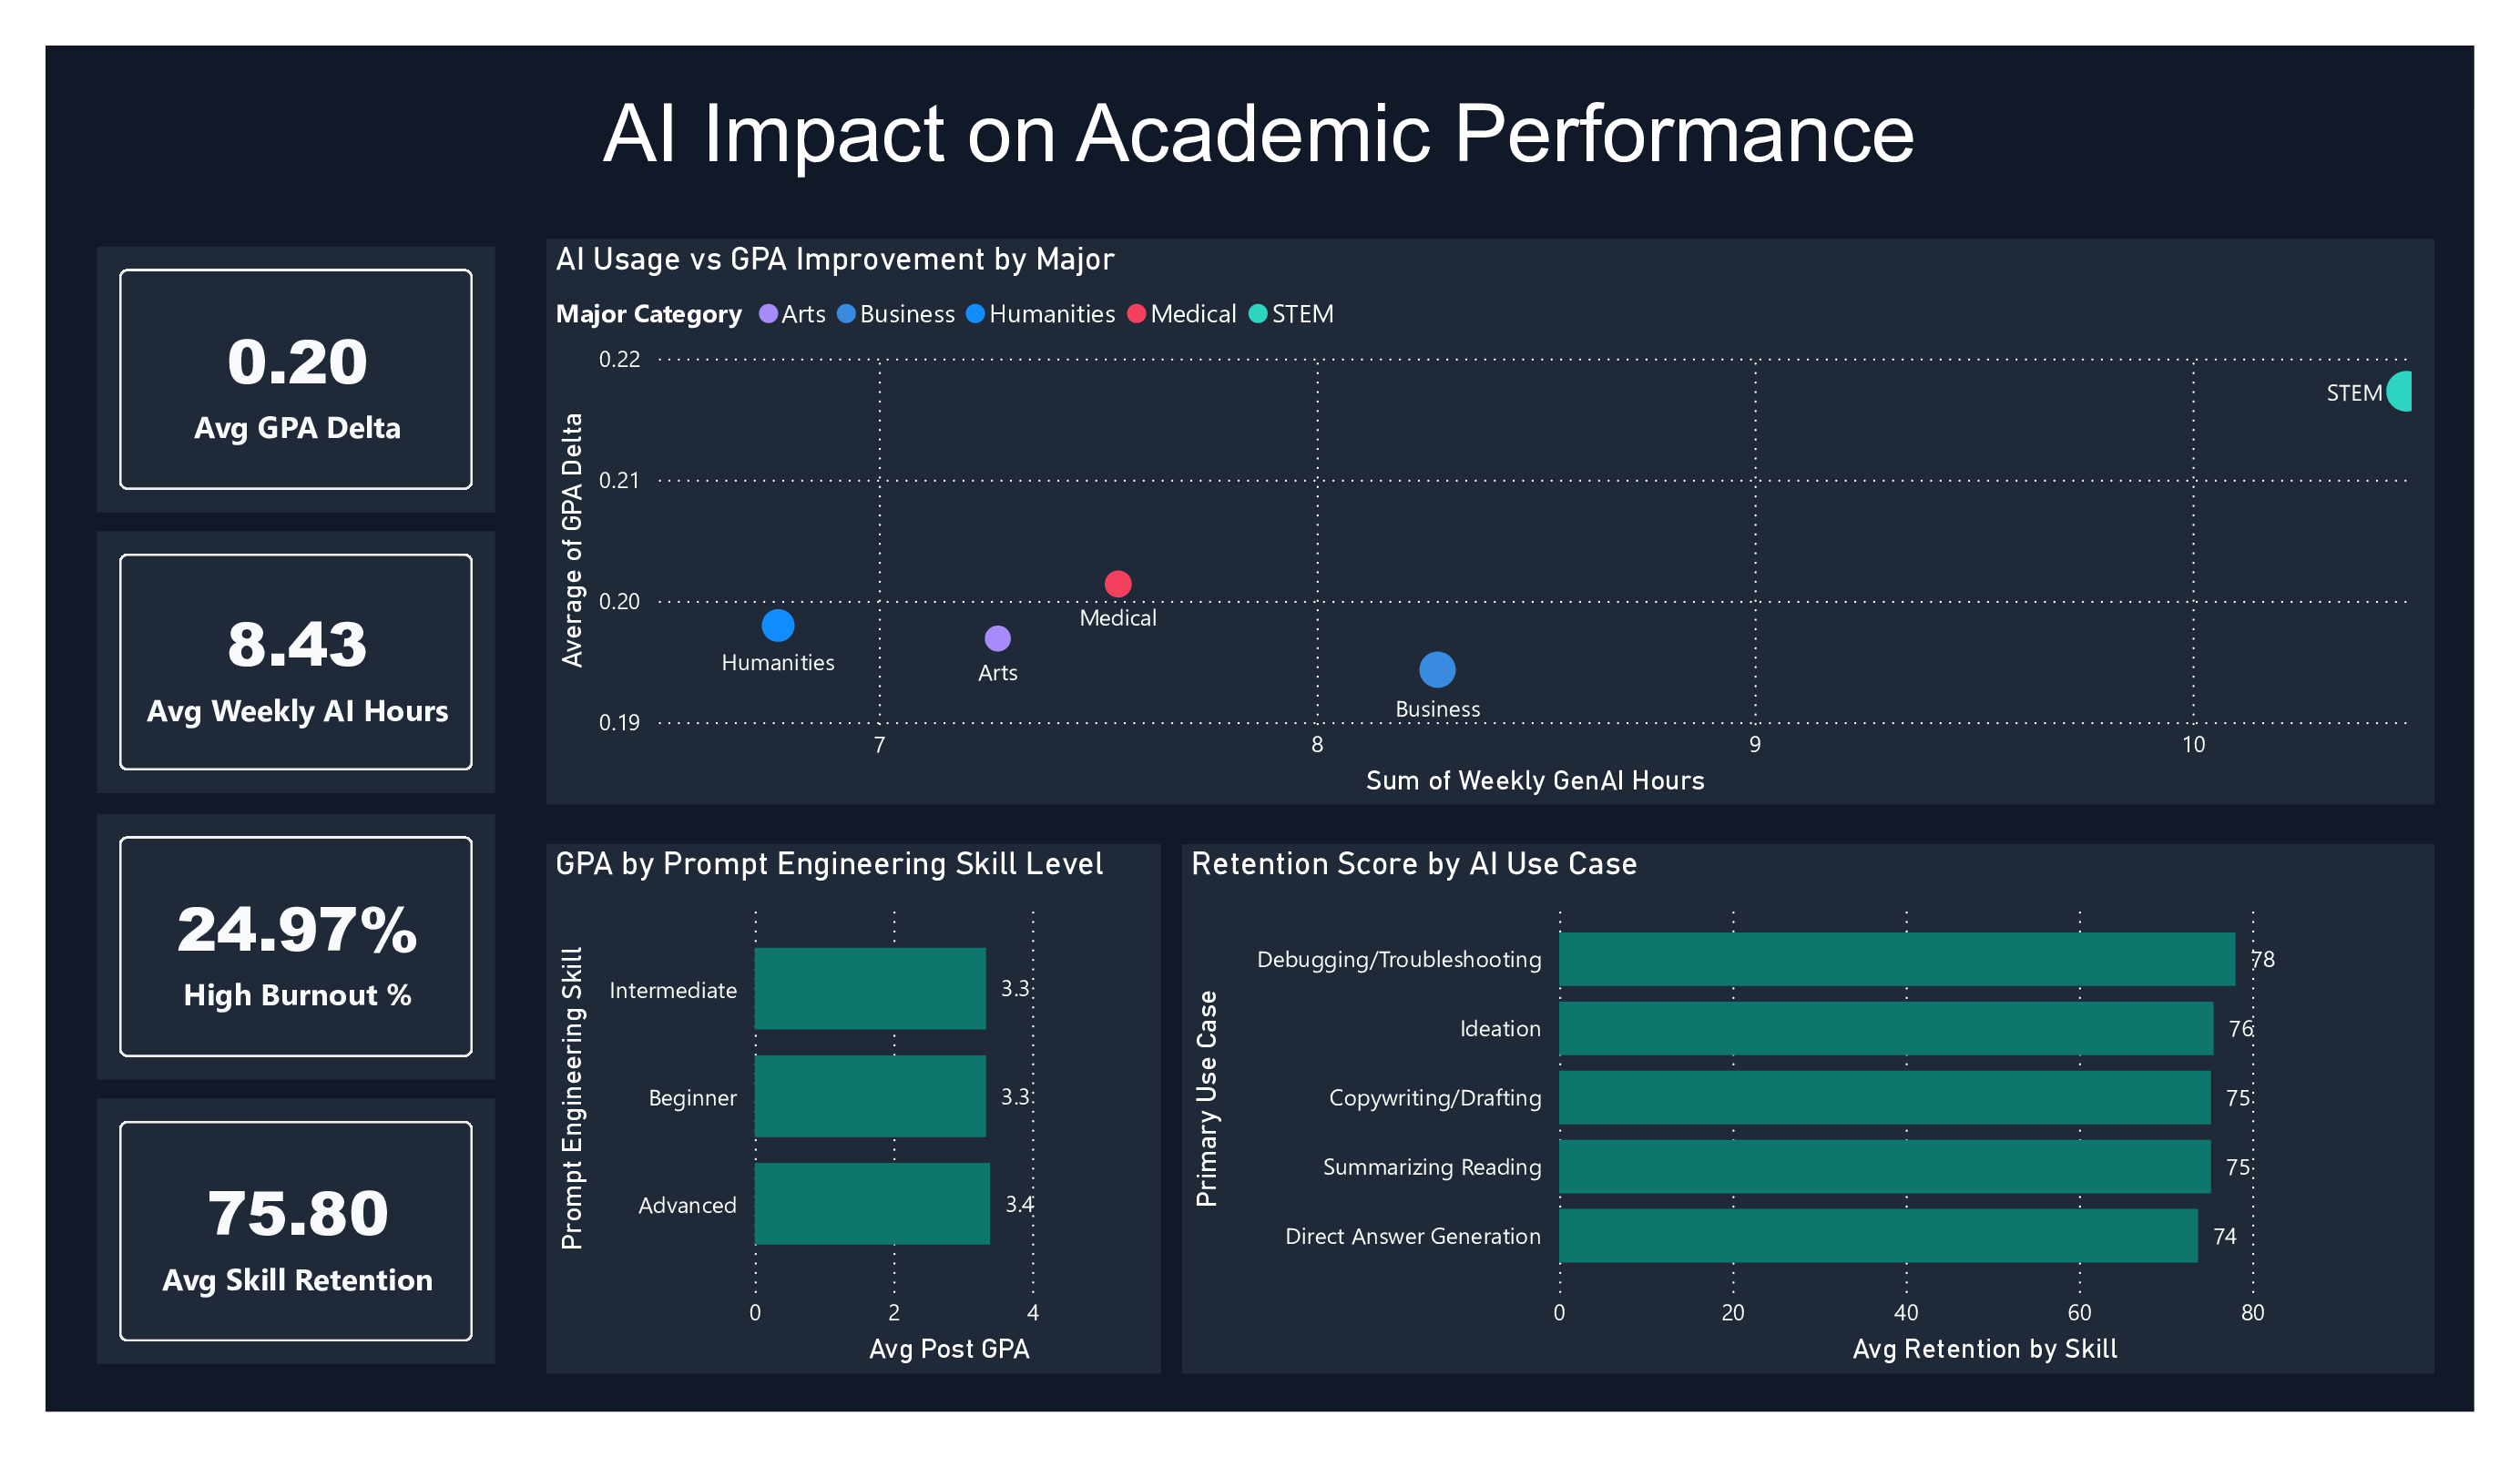

This screenshot's page, from the dashboard's own definition file:
{"tool":"powerbi","page":{"name":"Overview","canvas":[1280,720],"ordinal":0},"visuals":[{"type":"cardVisual","fields":{"Data":["ai_student_impact_dataset (1).Avg GPA Delta"]},"box":[22.2,101.3,220,150],"z":0},{"type":"cardVisual","fields":{"Data":["ai_student_impact_dataset (1).Avg Weekly AI Hours"]},"box":[22.2,251.3,220,148.9],"z":1000},{"type":"cardVisual","fields":{"Data":["ai_student_impact_dataset (1).High Burnout %"]},"box":[22.2,400.2,220,150],"z":2000},{"type":"cardVisual","fields":{"Data":["ai_student_impact_dataset (1).Avg Skill Retention"]},"box":[22.2,550.2,220,150],"z":3000},{"type":"scatterChart","title":"AI Usage vs GPA Improvement by Major","fields":{"X":["Avg(ai_student_impact_dataset (1).Weekly_GenAI_Hours)"],"Y":["Avg(ai_student_impact_dataset (1).GPA Delta)"],"Series":["ai_student_impact_dataset (1).Major_Category"],"Size":["Sum(ai_student_impact_dataset (1).Tool_Diversity)"]},"box":[264.4,102.2,994.4,297.8],"z":4000},{"type":"clusteredBarChart","title":"GPA by Prompt Engineering Skill Level","fields":{"Category":["ai_student_impact_dataset (1).Prompt_Engineering_Skill"],"Y":["ai_student_impact_dataset (1).Avg Post GPA"]},"box":[264.4,421.1,323.3,278.9],"z":5000},{"type":"clusteredBarChart","title":"Retention Score by AI Use Case","fields":{"Category":["ai_student_impact_dataset (1).Primary_Use_Case"],"Y":["ai_student_impact_dataset (1).Avg Retention by Skill"]},"box":[598.9,421.1,660,278.9],"z":6000},{"type":"textbox","box":[157.8,16.7,964.4,68.9],"z":7000}]}

Visuals, with their boxes on the page's 1280x720 design canvas (x1, y1, x2, y2). These are canvas units, not pixel positions in the 2520x1457 screenshot, which may show the page scaled, cropped or inside an application window:
cardVisual - ai_student_impact_dataset (1).Avg GPA Delta: crop(22, 101, 242, 251)
cardVisual - ai_student_impact_dataset (1).Avg Weekly AI Hours: crop(22, 251, 242, 400)
cardVisual - ai_student_impact_dataset (1).High Burnout %: crop(22, 400, 242, 550)
cardVisual - ai_student_impact_dataset (1).Avg Skill Retention: crop(22, 550, 242, 700)
"AI Usage vs GPA Improvement by Major" scatterChart: crop(264, 102, 1259, 400)
"GPA by Prompt Engineering Skill Level" clusteredBarChart: crop(264, 421, 588, 700)
"Retention Score by AI Use Case" clusteredBarChart: crop(599, 421, 1259, 700)
textbox: crop(158, 17, 1122, 86)
